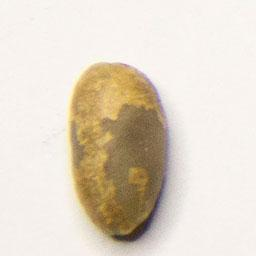longberry: (64, 56, 174, 241)
